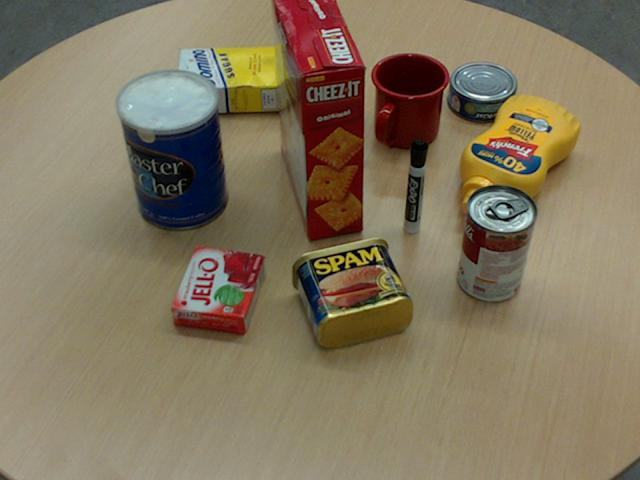cracker_box: (271, 0, 364, 239)
gelatin_box: (170, 244, 265, 333)
large_marker: (404, 140, 427, 233)
master_chef_can: (116, 69, 227, 230)
mug: (370, 52, 449, 147)
mustard_bottle: (459, 95, 578, 215)
potted_meat_can: (290, 235, 412, 346)
sugar_box: (175, 45, 318, 112)
tomato_soup_can: (457, 183, 536, 301)
tuna_fish_can: (446, 61, 515, 121)
